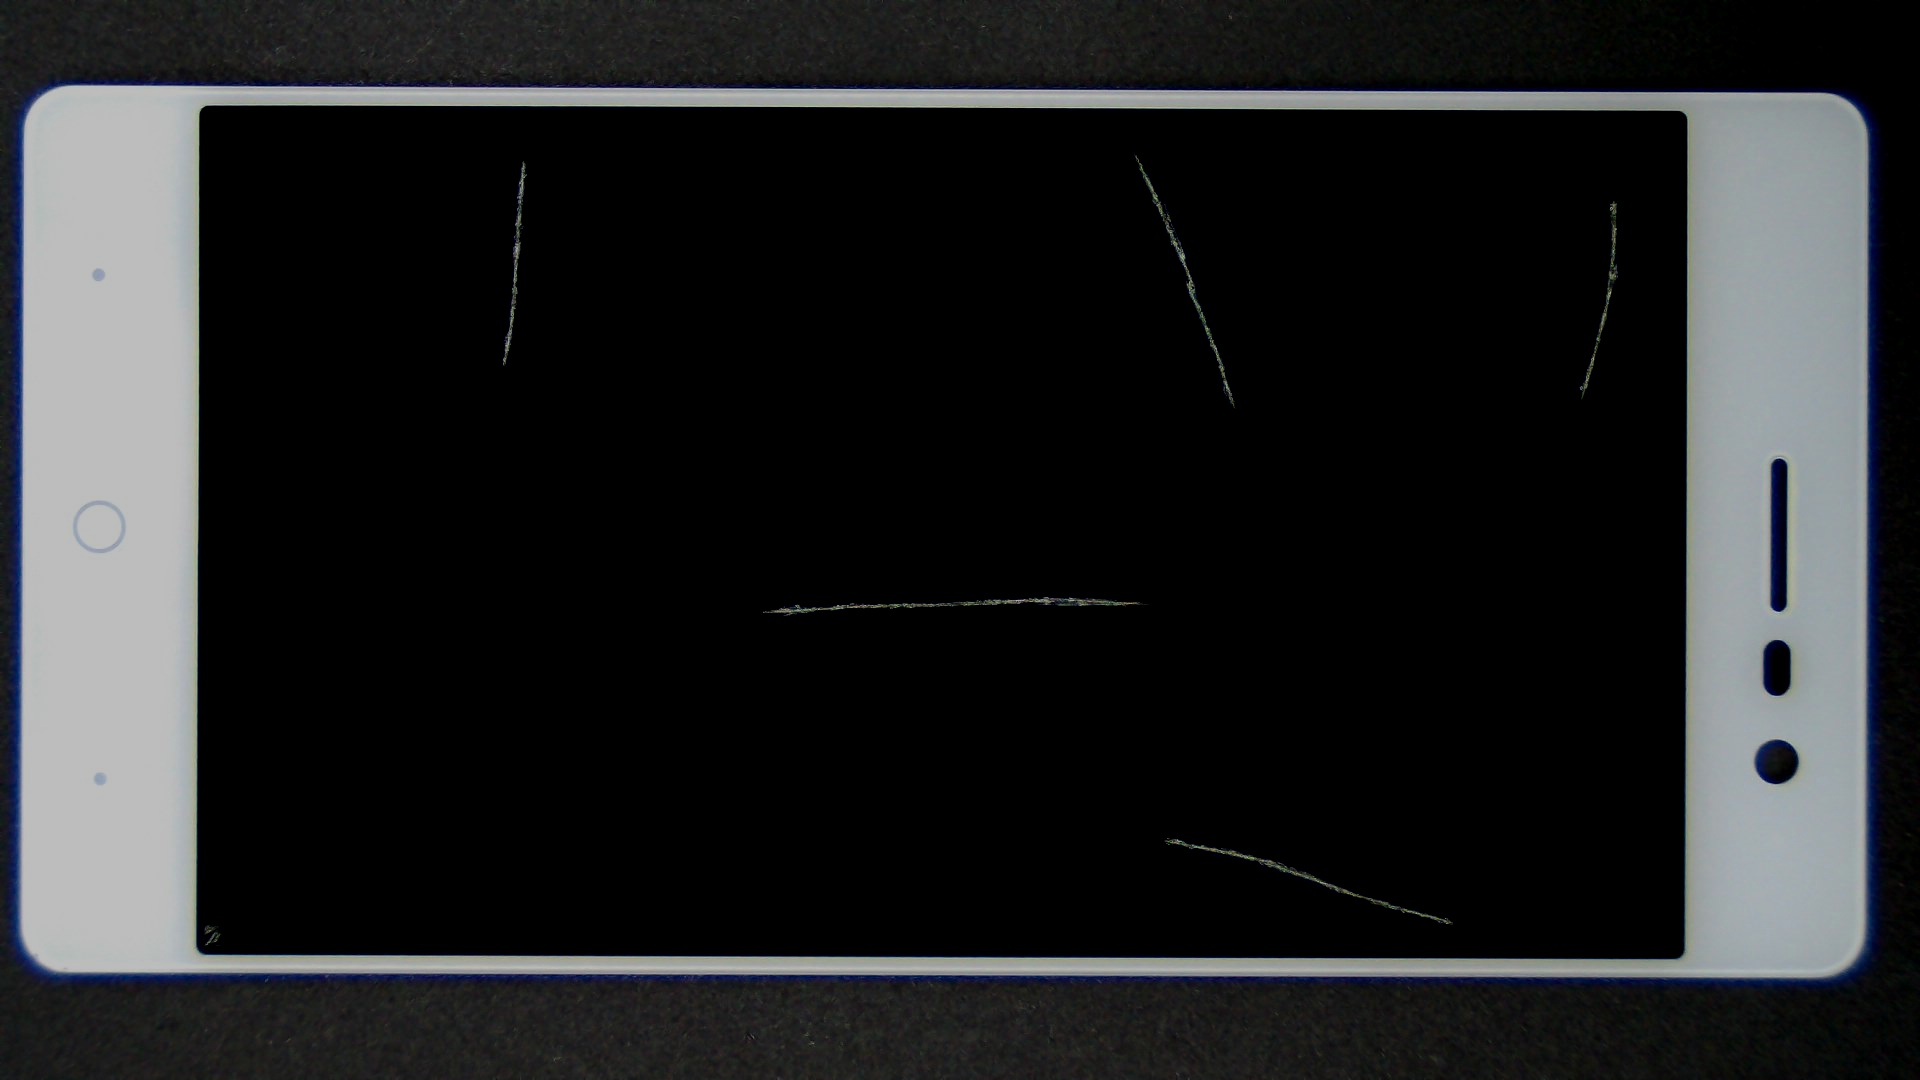oil: (583, 418, 1749, 1080), (524, 298, 1567, 895), (807, 95, 1920, 287), (566, 75, 1698, 228), (105, 459, 310, 1080), (262, 79, 785, 240)
